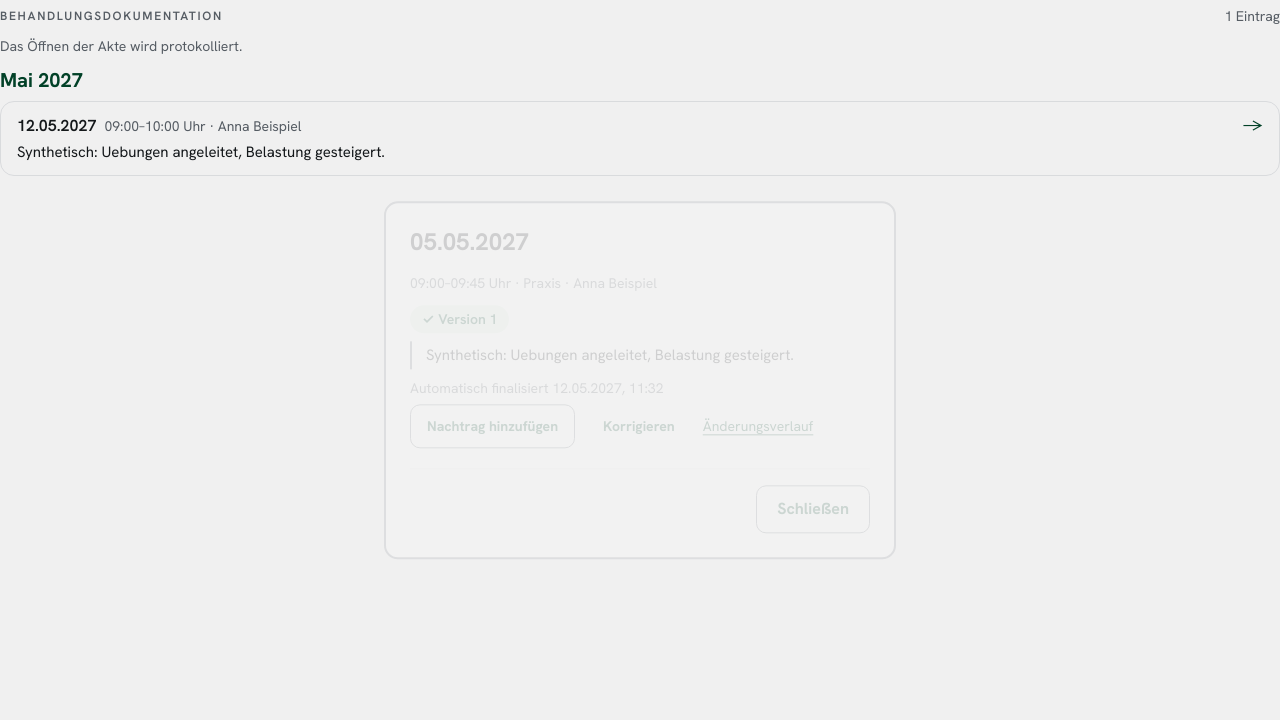
Scenario: PatientRecordDocumentation (DOK-003, ROL-001) › zeigt den Pflichtvermerk "ohne Behandlung" auch in der Akte
Step 1. Click the button that starts with "09:00–10:00 Uhr · Anna Beispiel" → (57, 126), box x1=1 y1=102 x2=1279 y2=175
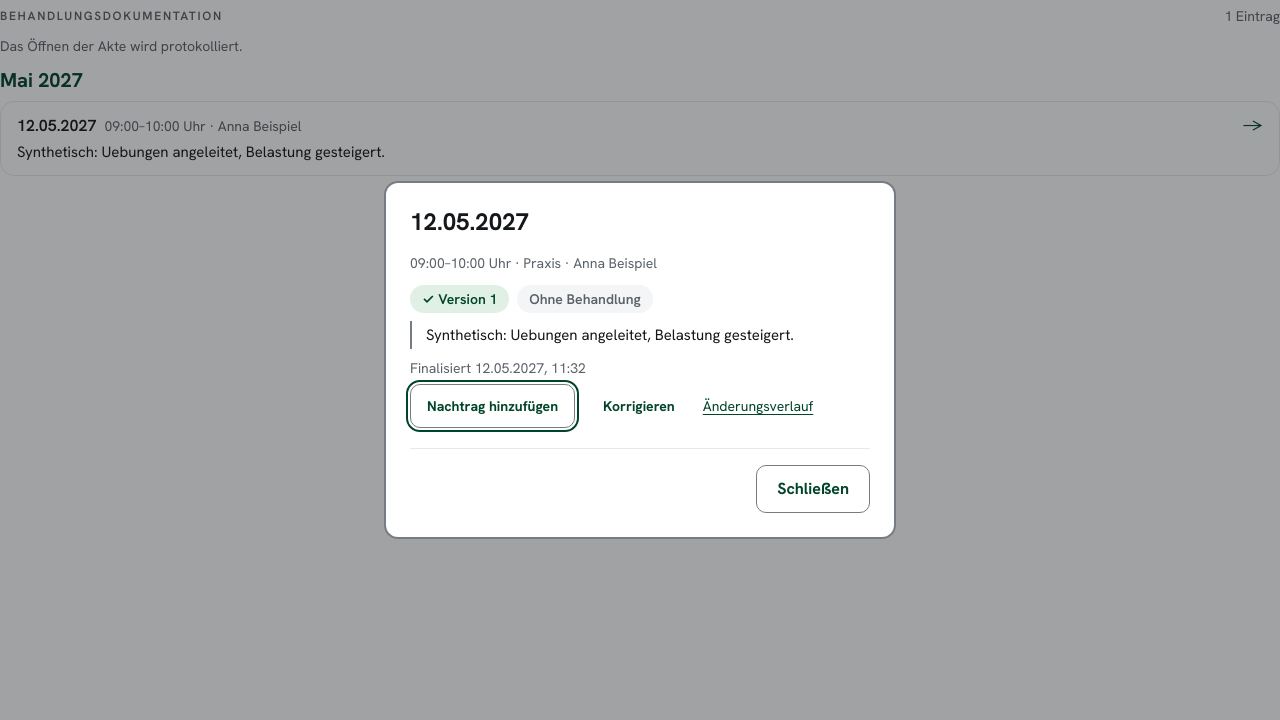
Check: the text "Ohne Behandlung" is shown, box x1=517 y1=285 x2=653 y2=313
